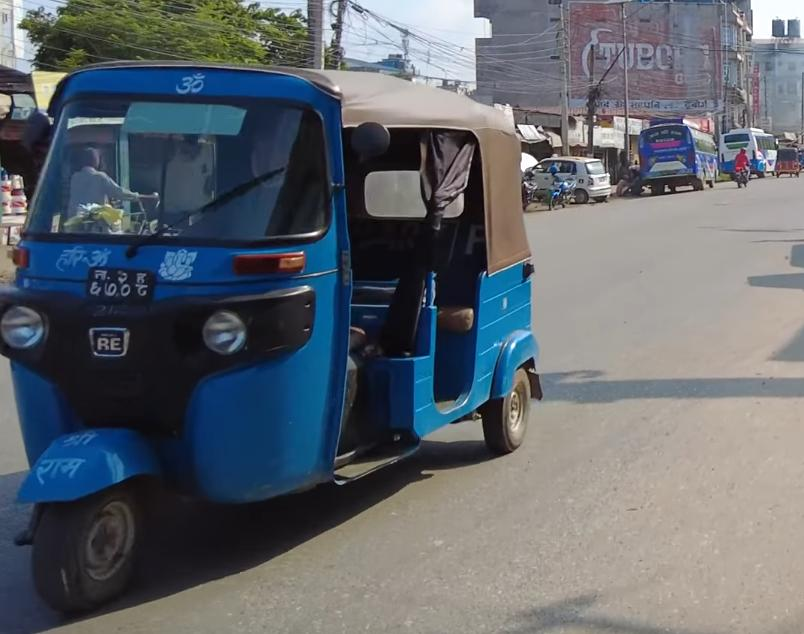auto_rickshaw: (0, 49, 555, 615), (774, 146, 804, 179)
bus: (632, 113, 719, 195), (718, 125, 781, 176)
car: (520, 151, 613, 205)
